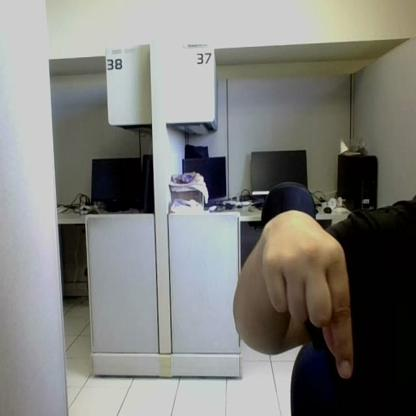Q: (263, 242, 352, 379)
